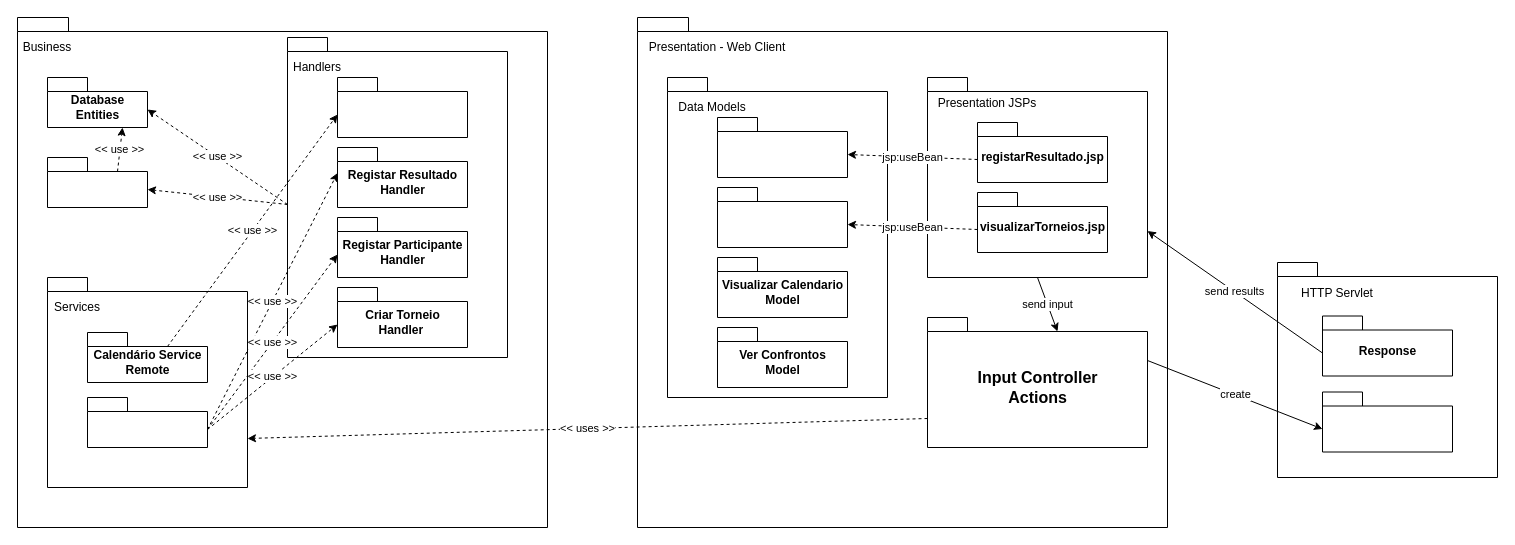
The diagram is 1515 pixels wide and 545 high, and some of its shapes have lost their labels. The centre of each missing label's shape, as x and y in pixels:
Entity Catalogs: pixel 97 182
Registar Resultado Model: pixel 782 147
Request: pixel 1387 421
Torneio Service Remote: pixel 147 422
Visualizar Calendario Handler: pixel 402 107
Visualizar Torneios Model: pixel 782 217
